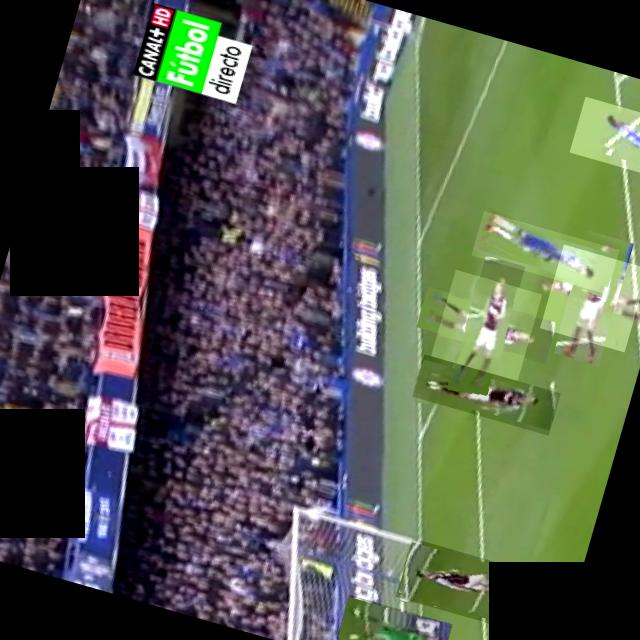goalkeeper: (335, 594, 451, 640)
soccer-player: (394, 538, 534, 632), (470, 210, 618, 294), (430, 269, 540, 380), (410, 354, 560, 435), (538, 244, 640, 352), (568, 96, 640, 187)
